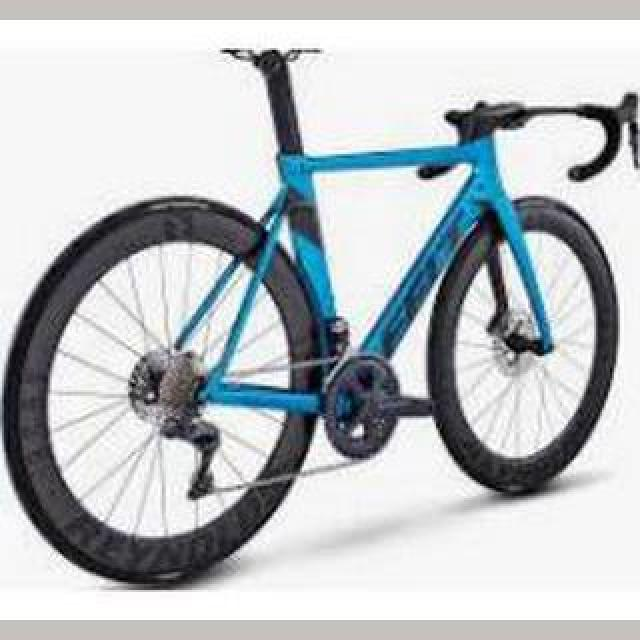Person: (0, 30, 640, 592)
